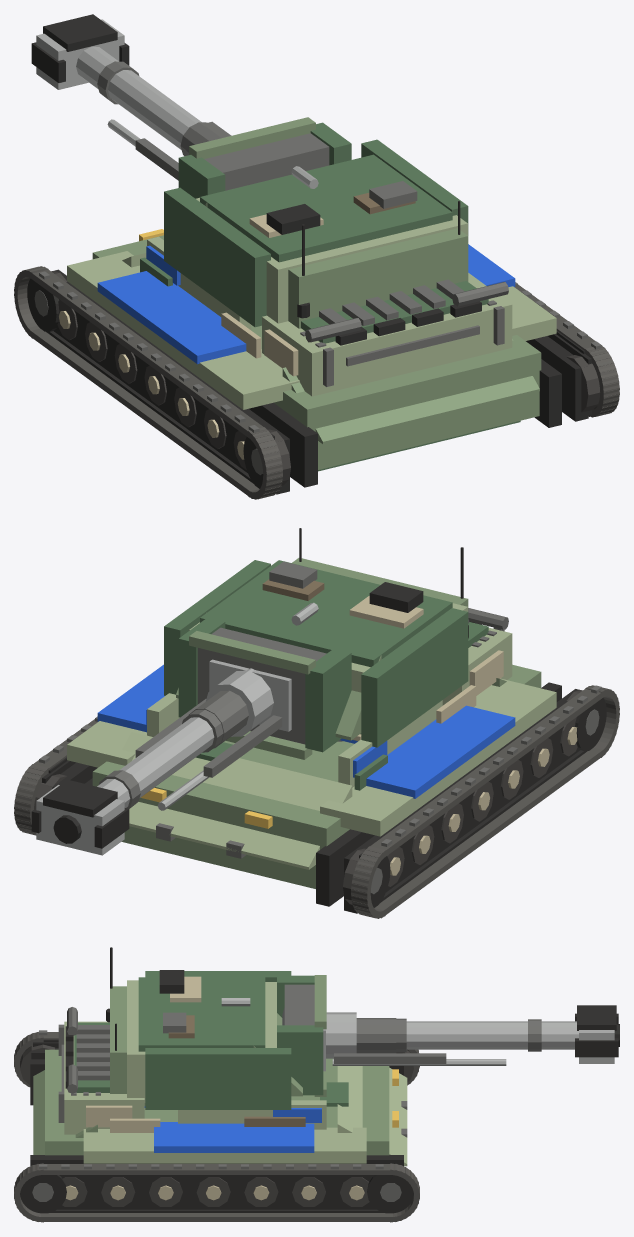
File: SelfPropelledArtillery.fbx
3 views of the same model, one above another, from view 1: azimuth 30°, elevation 25°; view 2: azimuth 150°, elevation 25°; view 3: azimuth 270°, elevation 25° (orthographic). The views are drawn at different scales.
Parts seen in each view (by area): view 1: SPG_Lower_Hull, SPG_Turret_Roof_Plate, SPG_Turret_Rear_Bustle, SPG_Rear_Engine_Block, SPG_Turret_Left_Armor_Cheek, SPG_Left_Armor_Skirt, SPG_Left_Blue_Team_Stripe, SPG_Rear_Slope, SPG_Heavy_Artillery_Barrel, SPG_Massive_Mantlet_Box, SPG_Artillery_Turret_Cabin, SPG_Track_Inner_Shadow_-1.0 (+26 smaller); view 2: SPG_Lower_Hull, SPG_Turret_Roof_Plate, SPG_Front_Slope, SPG_Turret_Left_Armor_Cheek, SPG_Left_Armor_Skirt, SPG_Left_Blue_Team_Stripe, SPG_Mantlet_Armor_Left, SPG_Massive_Mantlet_Box, SPG_Heavy_Artillery_Barrel, SPG_Track_Inner_Shadow_-1.0, SPG_Turret_Right_Armor_Cheek, SPG_Left_Track_Backplate (+32 smaller); view 3: SPG_Turret_Right_Armor_Cheek, SPG_Turret_Roof_Plate, SPG_Right_Armor_Skirt, SPG_Track_Inner_Shadow_1.0, SPG_Lower_Hull, SPG_Right_Blue_Team_Stripe, SPG_Heavy_Artillery_Barrel, SPG_Front_Slope, SPG_Artillery_Turret_Cabin, SPG_Mantlet_Armor_Right, SPG_Rear_Engine_Block, SPG_Turret_Rear_Bustle (+36 smaller).
Boxes of the visible parts, bbox=[...] form: SPG_Lower_Hull: bbox=[92, 235, 541, 469]; SPG_Turret_Roof_Plate: bbox=[200, 154, 452, 262]; SPG_Turret_Rear_Bustle: bbox=[288, 228, 468, 328]; SPG_Rear_Engine_Block: bbox=[262, 273, 512, 396]; SPG_Turret_Left_Armor_Cheek: bbox=[164, 187, 270, 327]; SPG_Left_Armor_Skirt: bbox=[67, 251, 299, 409]; SPG_Left_Blue_Team_Stripe: bbox=[97, 271, 246, 364]; SPG_Rear_Slope: bbox=[282, 339, 539, 444]; SPG_Heavy_Artillery_Barrel: bbox=[76, 46, 201, 149]; SPG_Massive_Mantlet_Box: bbox=[204, 133, 329, 190]; SPG_Artillery_Turret_Cabin: bbox=[196, 197, 467, 323]; SPG_Track_Inner_Shadow_-1.0: bbox=[54, 299, 274, 472]; SPG_Lower_Hull: bbox=[92, 664, 541, 888]; SPG_Turret_Roof_Plate: bbox=[200, 560, 452, 667]; SPG_Front_Slope: bbox=[122, 732, 352, 869]; SPG_Turret_Left_Armor_Cheek: bbox=[361, 608, 468, 747]; SPG_Left_Armor_Skirt: bbox=[320, 678, 556, 836]; SPG_Left_Blue_Team_Stripe: bbox=[366, 705, 515, 798]; SPG_Mantlet_Armor_Left: bbox=[305, 648, 351, 752]; SPG_Massive_Mantlet_Box: bbox=[197, 627, 326, 744]; SPG_Heavy_Artillery_Barrel: bbox=[97, 717, 214, 807]; SPG_Track_Inner_Shadow_-1.0: bbox=[359, 726, 580, 892]; SPG_Turret_Right_Armor_Cheek: bbox=[164, 560, 270, 695]; SPG_Left_Track_Backplate: bbox=[316, 682, 561, 906]; SPG_Turret_Right_Armor_Cheek: bbox=[145, 1048, 291, 1109]; SPG_Turret_Roof_Plate: bbox=[138, 977, 265, 1051]; SPG_Right_Armor_Skirt: bbox=[83, 1127, 366, 1163]; SPG_Track_Inner_Shadow_1.0: bbox=[57, 1175, 376, 1209]; SPG_Lower_Hull: bbox=[45, 1049, 389, 1155]; SPG_Right_Blue_Team_Stripe: bbox=[154, 1122, 314, 1152]; SPG_Heavy_Artillery_Barrel: bbox=[406, 1021, 578, 1049]; SPG_Front_Slope: bbox=[337, 1066, 407, 1166]; SPG_Artillery_Turret_Cabin: bbox=[127, 980, 276, 1102]; SPG_Mantlet_Armor_Right: bbox=[277, 1025, 323, 1095]; SPG_Rear_Engine_Block: bbox=[64, 1021, 144, 1134]; SPG_Turret_Rear_Bustle: bbox=[110, 986, 126, 1093].
Bounding box in the file's own units: 4.8 × 2.82 × 8.89.
